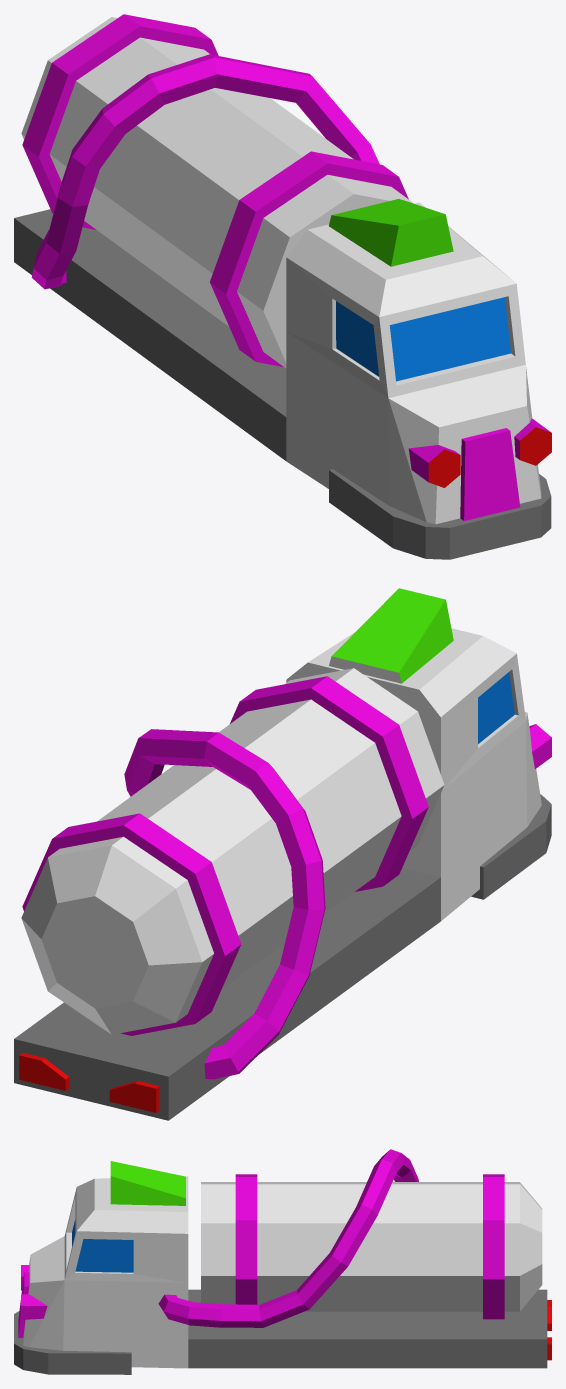
Rendered from Convoy.fbx.
The picture shows the model from 3 angles, top to bottom: view 1: azimuth 30°, elevation 25°; view 2: azimuth 150°, elevation 25°; view 3: azimuth 270°, elevation 25°; orthographic projection. The views are drawn at different scales.
Visible parts, largest first — view 1: Cube.001; view 2: Cube.001; view 3: Cube.001.
Boxes of the visible parts, <box> form: Cube.001: <box>14,14,551,559</box>; Cube.001: <box>14,588,551,1120</box>; Cube.001: <box>14,1149,551,1374</box>.
Bounding box in the file's own units: 342 × 356 × 914.
